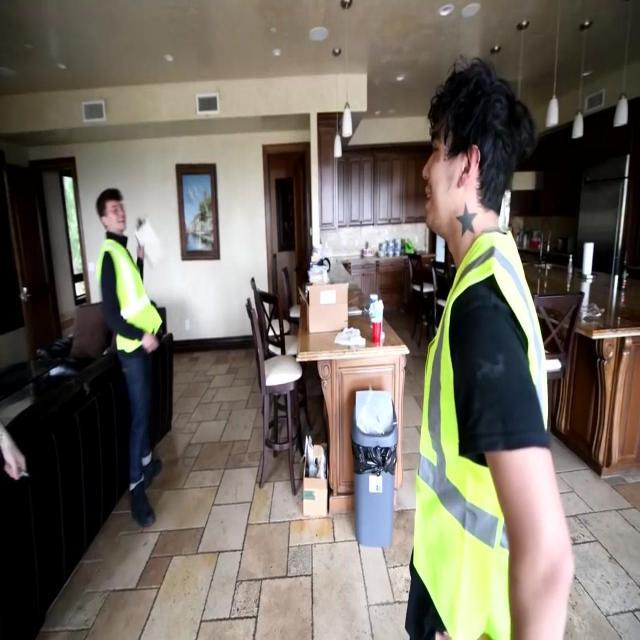reflective_jacket: (405, 219, 567, 635), (91, 235, 167, 361)
safety_helmet: (89, 177, 132, 239)
